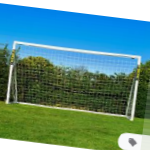goals: (6, 39, 141, 120)
